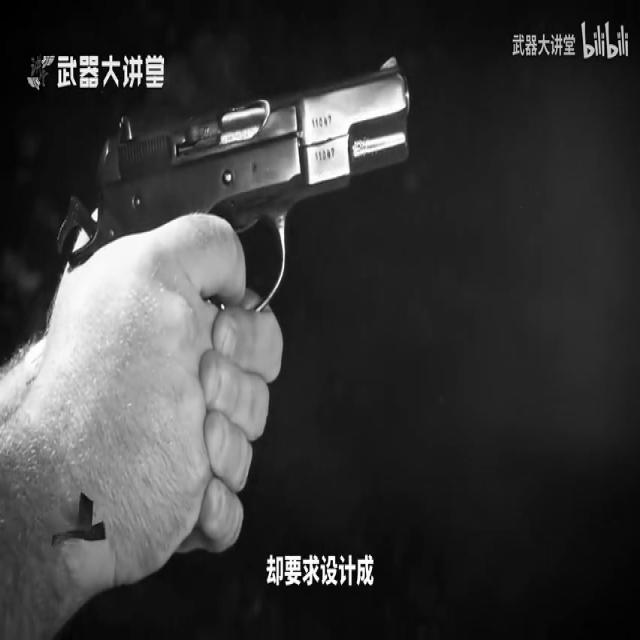Hand-Gun: (58, 41, 417, 418)
